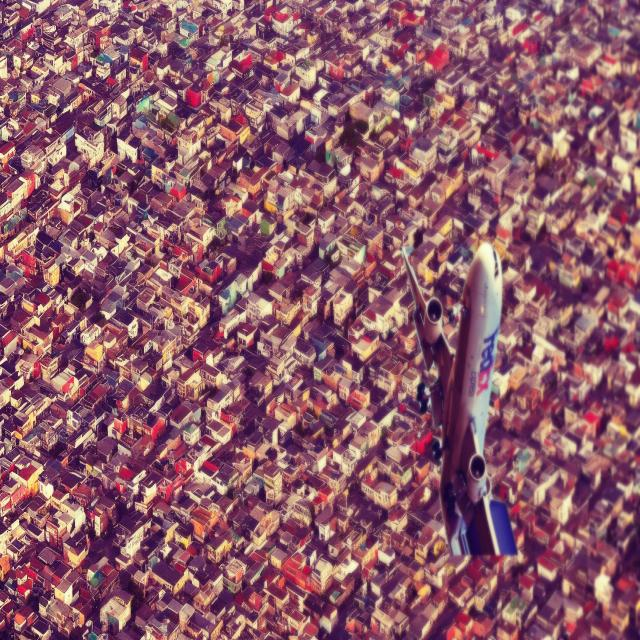airplane: (400, 240, 518, 558)
